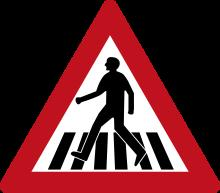Pedestrian Crossing: (10, 15, 209, 187)
